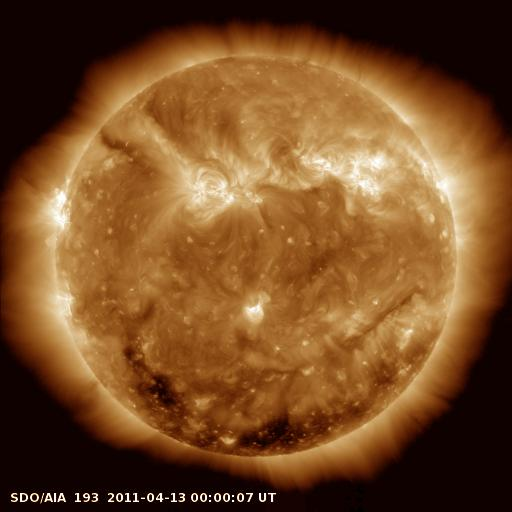coronal_hole: (121, 339, 219, 453), (229, 395, 379, 458)
